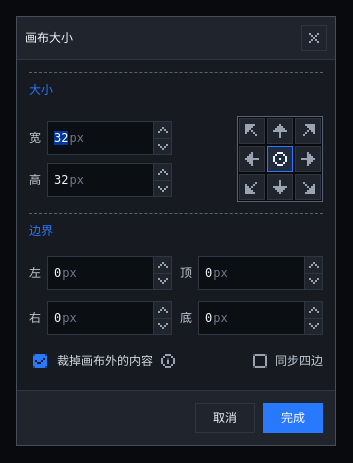
it: CanvasResizeDialog › updates all four bounds after edge synchronization is enabled
This screenshot has width=353, height=463.
Click the checkbox labelled "同步四边" at (286, 361), box [249,350,323,372]
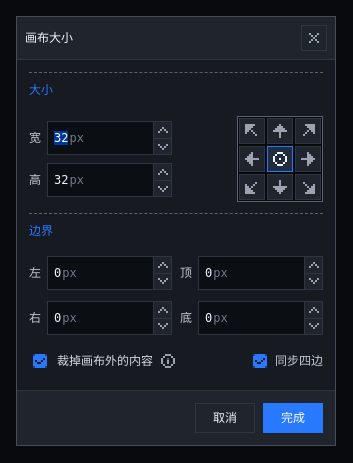
Replace the text in the number field named "右边距" with "4" at (100, 318), box [48,302,153,334]
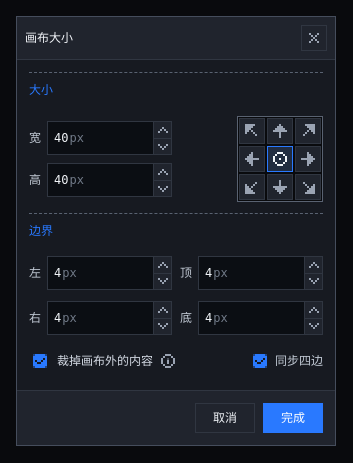
Result: the number field named "左边距" holds "4" at [48,256,153,288]
Result: the number field named "上边距" holds "4" at [199,256,304,288]
Result: the number field named "下边距" holds "4" at [199,302,304,334]
